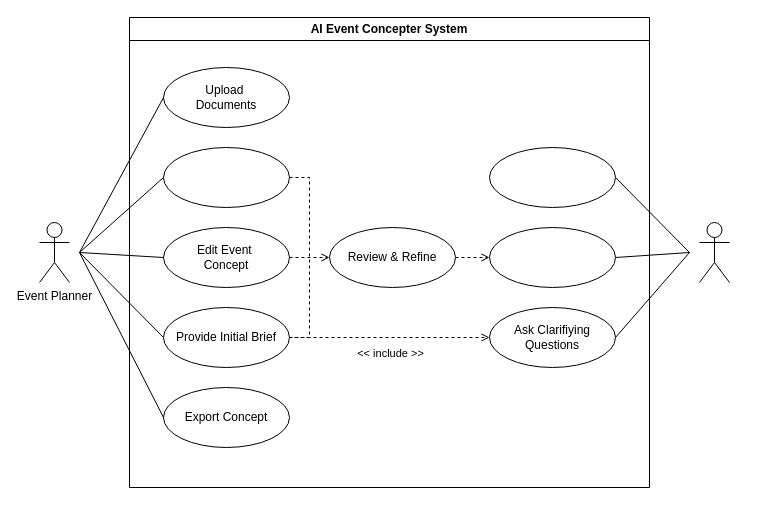
The diagram is 759 pixels wide and 505 high, and some of its shapes have lost their labels. The centre of each missing label's shape, as x and y in pixels:
AI System: (x=714, y=252)
Create Event Concept: (x=226, y=177)
Generate Event Content: (x=552, y=257)
Learn from Feedback: (x=552, y=177)
